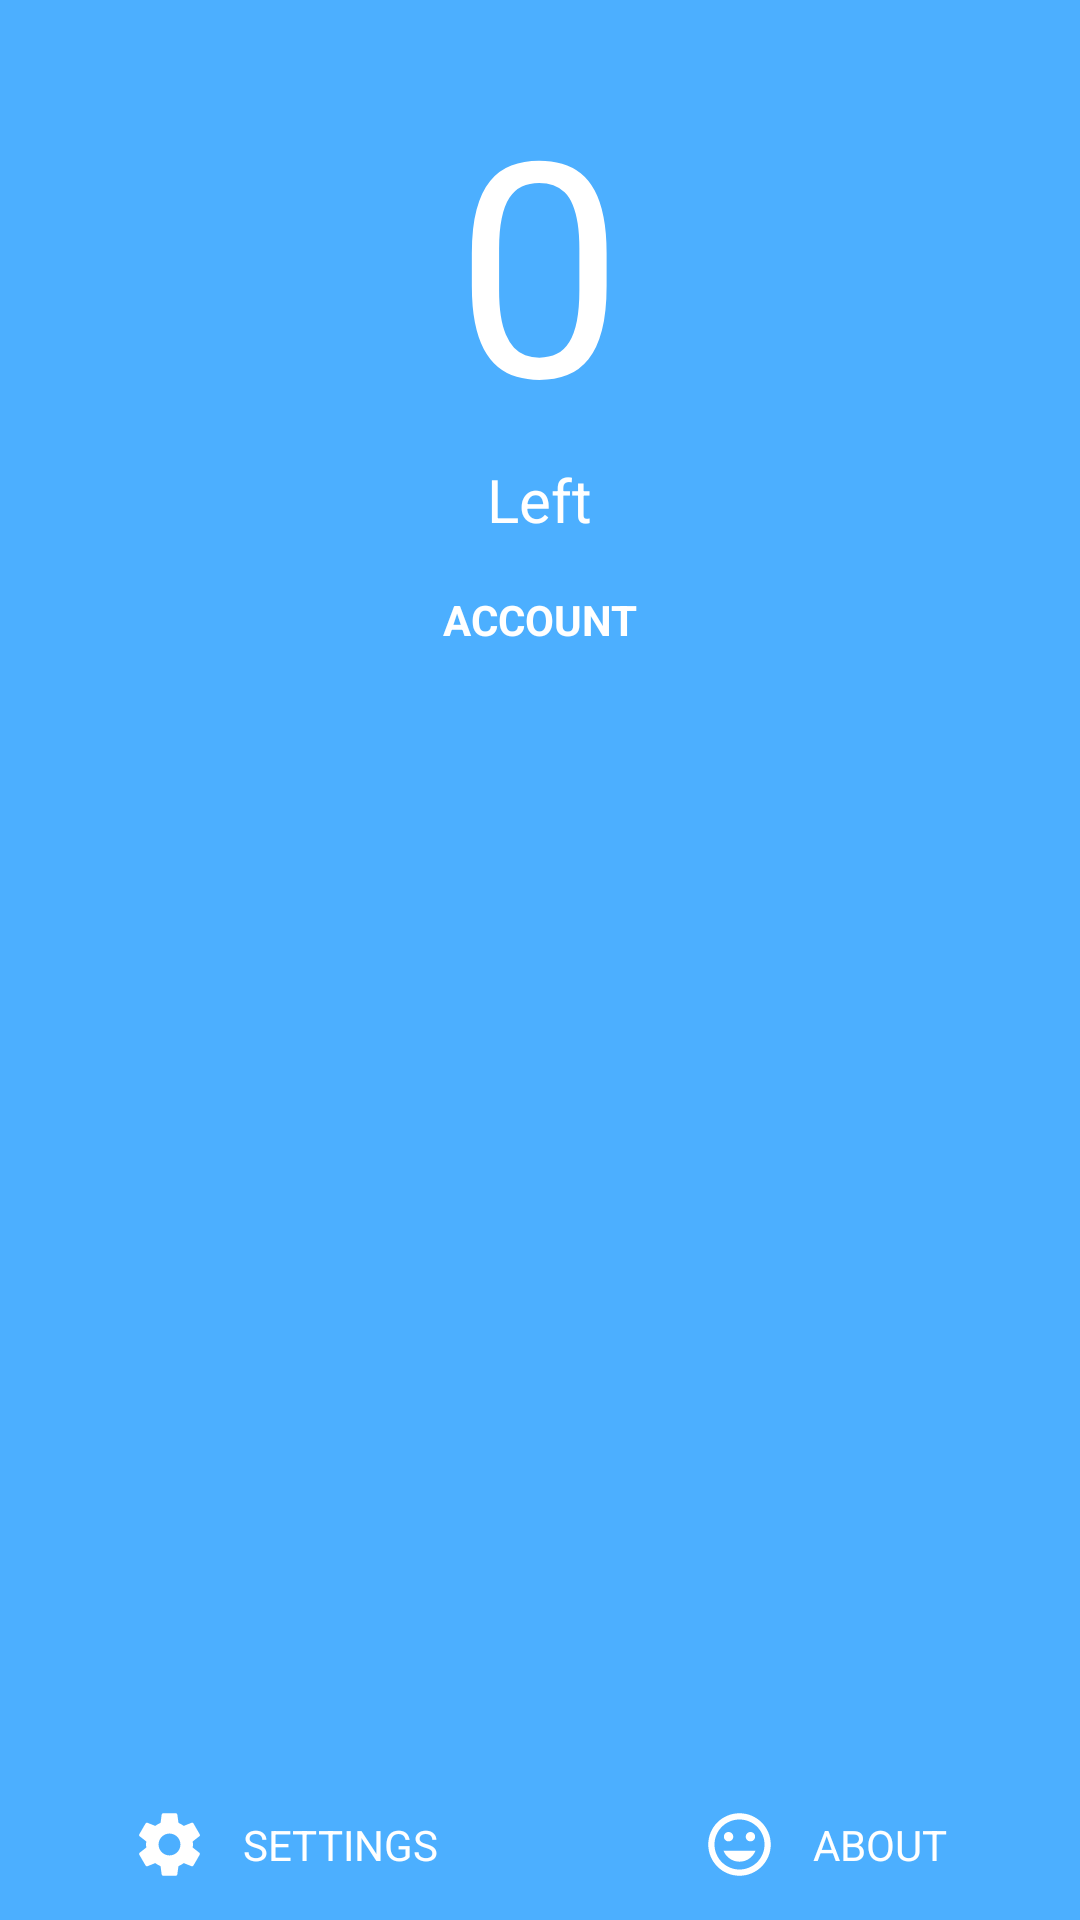

Screen size 1080*1920. Icon name, then its center in pixels as [x,y]:
emoticon: [739,1844]
